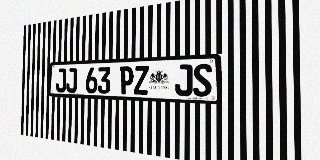3: (98, 67, 110, 94)
6: (86, 67, 98, 93)
J: (175, 64, 192, 96), (66, 68, 77, 93), (56, 68, 66, 92)
P: (120, 66, 134, 95)
S: (193, 63, 212, 97)
Z: (134, 66, 149, 95)
